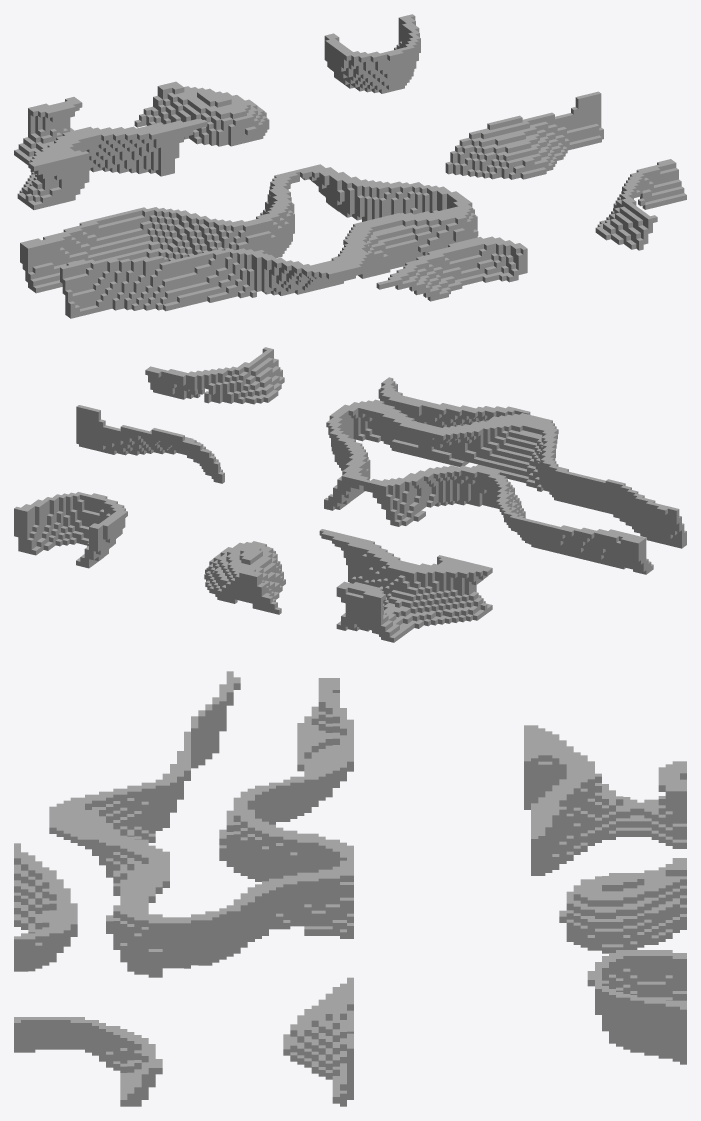
The model's file is church6-15.obj.
The picture shows the model from 3 angles, top to bottom: view 1: azimuth 30°, elevation 25°; view 2: azimuth 150°, elevation 25°; view 3: azimuth 270°, elevation 25°; orthographic projection. The views are drawn at different scales.
Parts seen in each view (by area): view 1: church6-15; view 2: church6-15; view 3: church6-15.
Boxes of the visible parts, x1,y1,x2,y2 form: church6-15: (14, 14, 686, 318); church6-15: (14, 347, 686, 642); church6-15: (14, 671, 686, 1106).
Size of the model in its own units: 126 by 9 by 95.
Materials: 1 (1 with a texture image).
